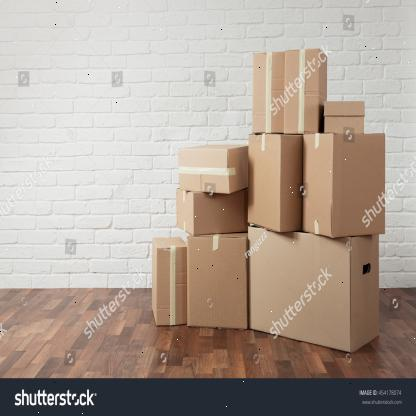box: (249, 225, 351, 356), (187, 236, 247, 331), (332, 134, 384, 240), (247, 134, 281, 231), (284, 48, 318, 134), (252, 52, 284, 133), (156, 247, 187, 326), (178, 147, 230, 194), (194, 193, 248, 234), (324, 100, 365, 135)
